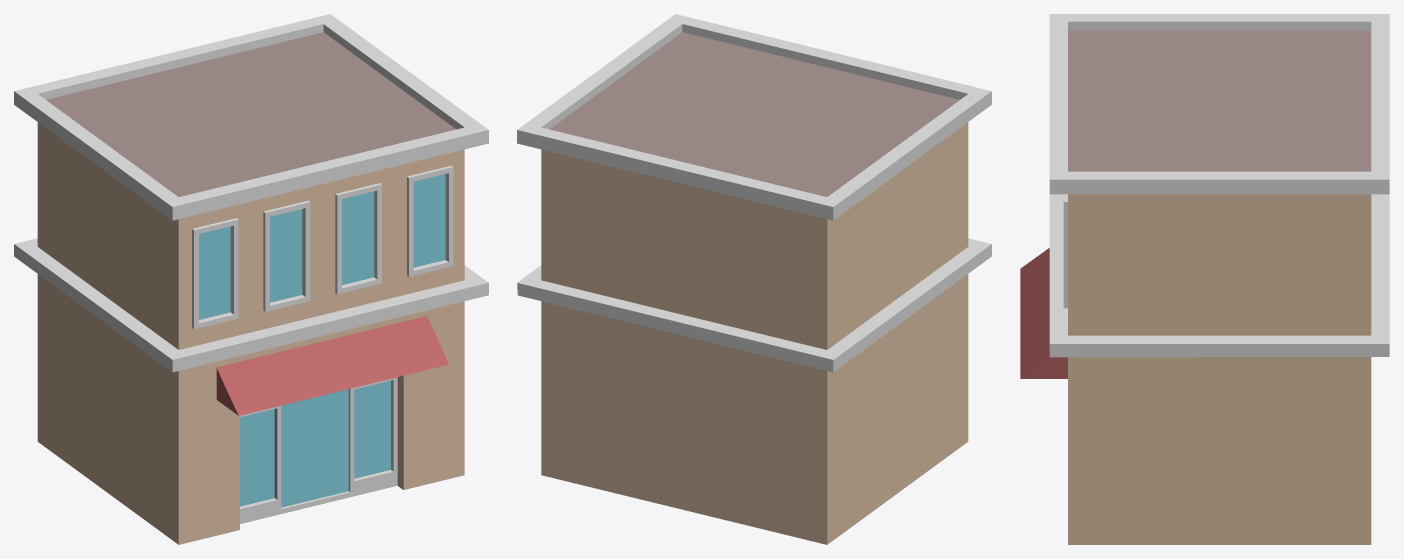
File: Building4.fbx
3 renders of one model, left to right at view 1: azimuth 30°, elevation 25°; view 2: azimuth 150°, elevation 25°; view 3: azimuth 270°, elevation 25°, orthographic. The views are drawn at different scales.
Parts seen in each view (by area): view 1: pCube3; view 2: pCube3; view 3: pCube3.
Part boxes in pixels (x1=…): pCube3: x1=14, y1=14, x2=488, y2=544; pCube3: x1=517, y1=14, x2=991, y2=544; pCube3: x1=1020, y1=14, x2=1389, y2=544.
Size of the model in its own units: 619 by 651 by 583.
